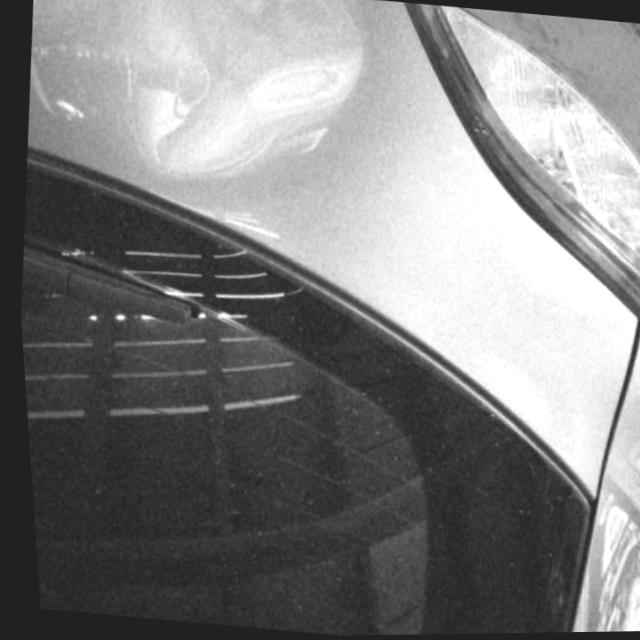Dent: (30, 0, 377, 175)
